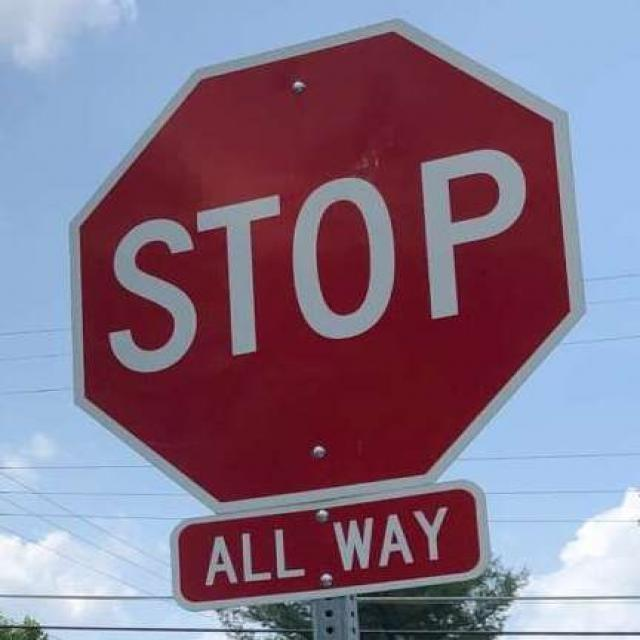Stop-Sign: (85, 37, 572, 490)
